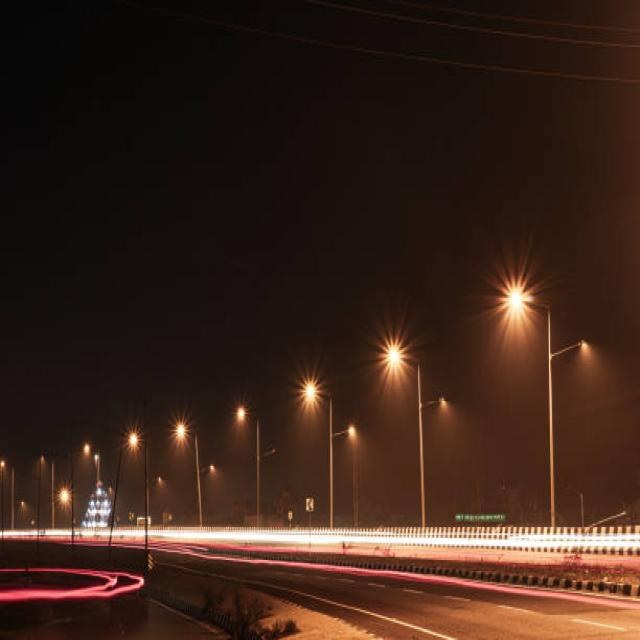acesa: (492, 264, 536, 345), (376, 322, 412, 390), (294, 364, 326, 421), (170, 416, 190, 450)
